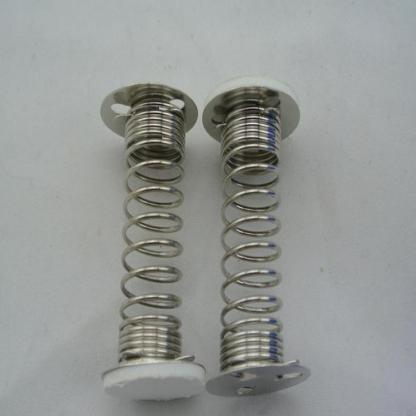FOD: (113, 102, 197, 370), (212, 102, 288, 370)
